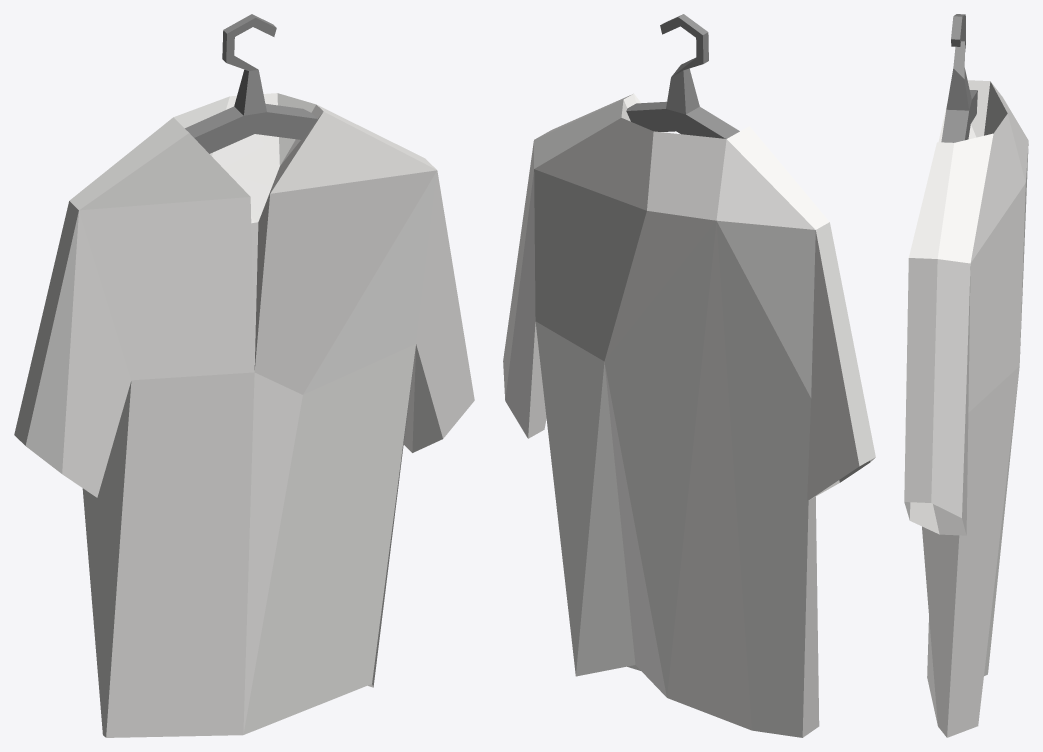
The model's file is Cloth_3.fbx.
The picture shows the model from 3 angles, left to right: view 1: azimuth 30°, elevation 25°; view 2: azimuth 150°, elevation 25°; view 3: azimuth 270°, elevation 25°; orthographic projection. The views are drawn at different scales.
Visible parts, largest first — view 1: Cloth_3; view 2: Cloth_3; view 3: Cloth_3.
Part boxes in pixels (left/top/right/bottom): Cloth_3: left=14, top=14, right=474, bottom=737; Cloth_3: left=503, top=14, right=875, bottom=737; Cloth_3: left=904, top=14, right=1028, bottom=737.
Size of the model in its own units: 65.27 by 17.89 by 107.
